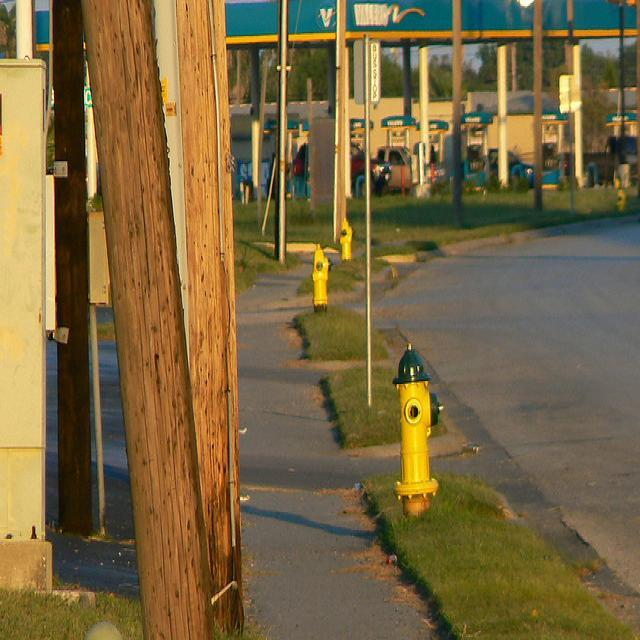fire_hydrant: (392, 340, 443, 516), (310, 242, 334, 312), (612, 164, 629, 208), (339, 217, 351, 262), (245, 180, 250, 204)
